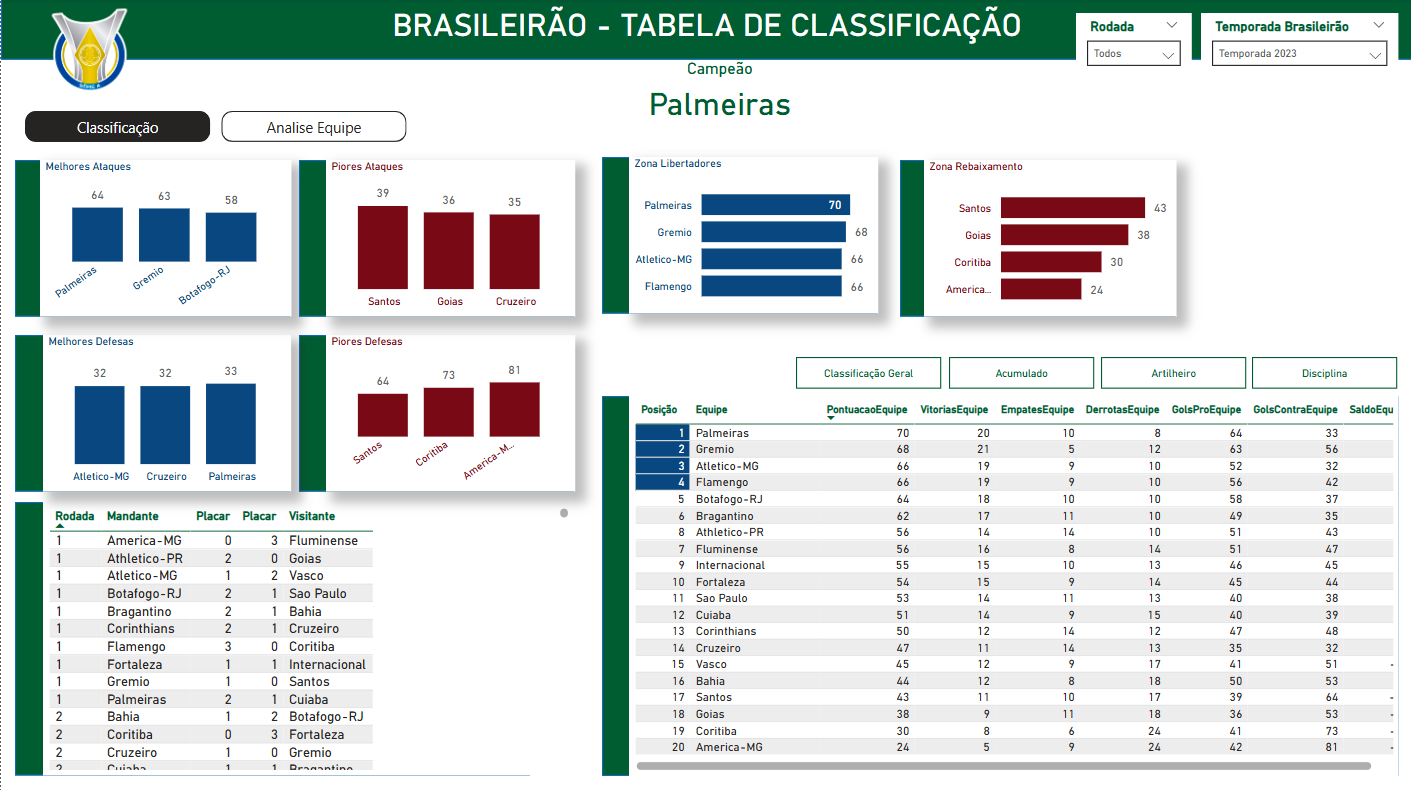

The dashboard page shown, as its layout file describes it:
{"tool":"powerbi","page":{"name":"Classificação","canvas":[1280,720],"ordinal":0},"visuals":[{"type":"shape","box":[0,0,1280.4,55.3],"z":0},{"type":"image","box":[12.7,3.6,135.1,86.1],"z":1000},{"type":"shape","box":[545,360,722.7,344.6],"z":2000},{"type":"textbox","box":[350,1.9,601.9,51.9],"z":3000},{"type":"shape","box":[12.7,456.1,467.9,248.5],"z":4000},{"type":"tableEx","fields":{"Values":["PartidasEquipe.Rodada","PartidasEquipe.Mandante","PartidasEquipe.Mandante_Placar","PartidasEquipe.Visitante_Placar","PartidasEquipe.Visitante"]},"box":[38.1,456.1,482.4,248.5],"z":6000},{"type":"shape","box":[859.8,324.6,131.7,28.8],"z":8000},{"type":"shape","box":[720.7,324.6,131.7,28.8],"z":9000},{"type":"card","title":"Campeão","fields":{"Values":["Medidas.Campeao"]},"box":[501.2,55.5,300.6,60.4],"z":10000},{"type":"slicer","fields":{"Values":["PartidasEquipe.Rodada"]},"box":[975,12.8,104.9,54.9],"z":11000},{"type":"shape","box":[997.1,324.6,131.7,28.8],"z":13000},{"type":"shape","box":[1134.4,324.6,131.7,28.8],"z":14000},{"type":"pivotTable","title":"Disciplica","fields":{"Rows":["Equipes.Logo","Disciplina.atleta"],"Columns":["Disciplina.cartao"],"Values":["CountNonNull(Disciplina.minuto)"]},"box":[569.5,359,696.6,346],"z":15000},{"type":"shape","box":[12.7,304.7,250.3,142.4],"z":16000},{"type":"shape","box":[270.2,304.7,250.3,142.4],"z":17000},{"type":"columnChart","title":"Melhores Defesas","fields":{"Category":["PartidasEquipe.Equipe"],"Y":["Medidas.GolsContraEquipe"]},"box":[38.1,304.7,224.9,142.4],"z":18000},{"type":"shape","box":[12.7,146,250.3,142.4],"z":19000},{"type":"clusteredColumnChart","title":"Melhores Ataques","fields":{"Category":["PartidasEquipe.Equipe"],"Y":["Medidas.GolsProEquipe"]},"box":[35.4,146,227.6,142.4],"z":20000},{"type":"shape","box":[270.2,146,250.3,142.4],"z":21000},{"type":"clusteredColumnChart","title":"Piores Defesas","fields":{"Category":["PartidasEquipe.Equipe"],"Y":["Medidas.GolsContraEquipe"]},"box":[294.7,304.7,225.8,142.4],"z":22000},{"type":"clusteredColumnChart","title":"Piores Ataques","fields":{"Category":["PartidasEquipe.Equipe"],"Y":["Medidas.GolsProEquipe"]},"box":[294.7,146,225.8,142.4],"z":23000},{"type":"shape","box":[545,143.3,250.3,142.4],"z":24000},{"type":"clusteredBarChart","title":"Zona Libertadores","fields":{"Category":["PartidasEquipe.Equipe"],"Y":["Medidas.PontuacaoEquipe"]},"box":[569.5,143.3,225.8,142.4],"z":25000},{"type":"shape","box":[815.2,146,250.3,142.4],"z":26000},{"type":"clusteredBarChart","title":"Zona Rebaixamento","fields":{"Category":["PartidasEquipe.Equipe"],"Y":["Medidas.PontuacaoEquipe"]},"box":[837,146,229.4,142.4],"z":27000},{"type":"slicer","fields":{"Values":["Calendario.Temporada Brasileirão"]},"box":[1088.4,12.8,179.3,54.9],"z":28000},{"type":"pageNavigator","box":[22.1,101.9,347.1,28.8],"z":29000}]}

Visuals, with their boxes in screenshot pixels (x1, y1, x2, y2), scaled from the page's 1280x720 canvas onto the 1411x790 screenshot:
shape: detection(0, 0, 1410, 61)
image: detection(14, 4, 163, 98)
shape: detection(601, 395, 1397, 773)
textbox: detection(386, 2, 1049, 59)
shape: detection(14, 500, 530, 773)
tableEx - PartidasEquipe.Rodada x PartidasEquipe.Mandante: detection(42, 500, 574, 773)
shape: detection(948, 356, 1093, 388)
shape: detection(794, 356, 940, 388)
"Campeão" card: detection(552, 61, 884, 127)
slicer - PartidasEquipe.Rodada: detection(1075, 14, 1190, 74)
shape: detection(1099, 356, 1244, 388)
shape: detection(1250, 356, 1396, 388)
"Disciplica" pivotTable: detection(628, 394, 1396, 774)
shape: detection(14, 334, 290, 491)
shape: detection(298, 334, 574, 491)
"Melhores Defesas" columnChart: detection(42, 334, 290, 491)
shape: detection(14, 160, 290, 316)
"Melhores Ataques" clusteredColumnChart: detection(39, 160, 290, 316)
shape: detection(298, 160, 574, 316)
"Piores Defesas" clusteredColumnChart: detection(325, 334, 574, 491)
"Piores Ataques" clusteredColumnChart: detection(325, 160, 574, 316)
shape: detection(601, 157, 877, 313)
"Zona Libertadores" clusteredBarChart: detection(628, 157, 877, 313)
shape: detection(899, 160, 1175, 316)
"Zona Rebaixamento" clusteredBarChart: detection(923, 160, 1176, 316)
slicer - Calendario.Temporada Brasileirão: detection(1200, 14, 1397, 74)
pageNavigator: detection(24, 112, 407, 143)
